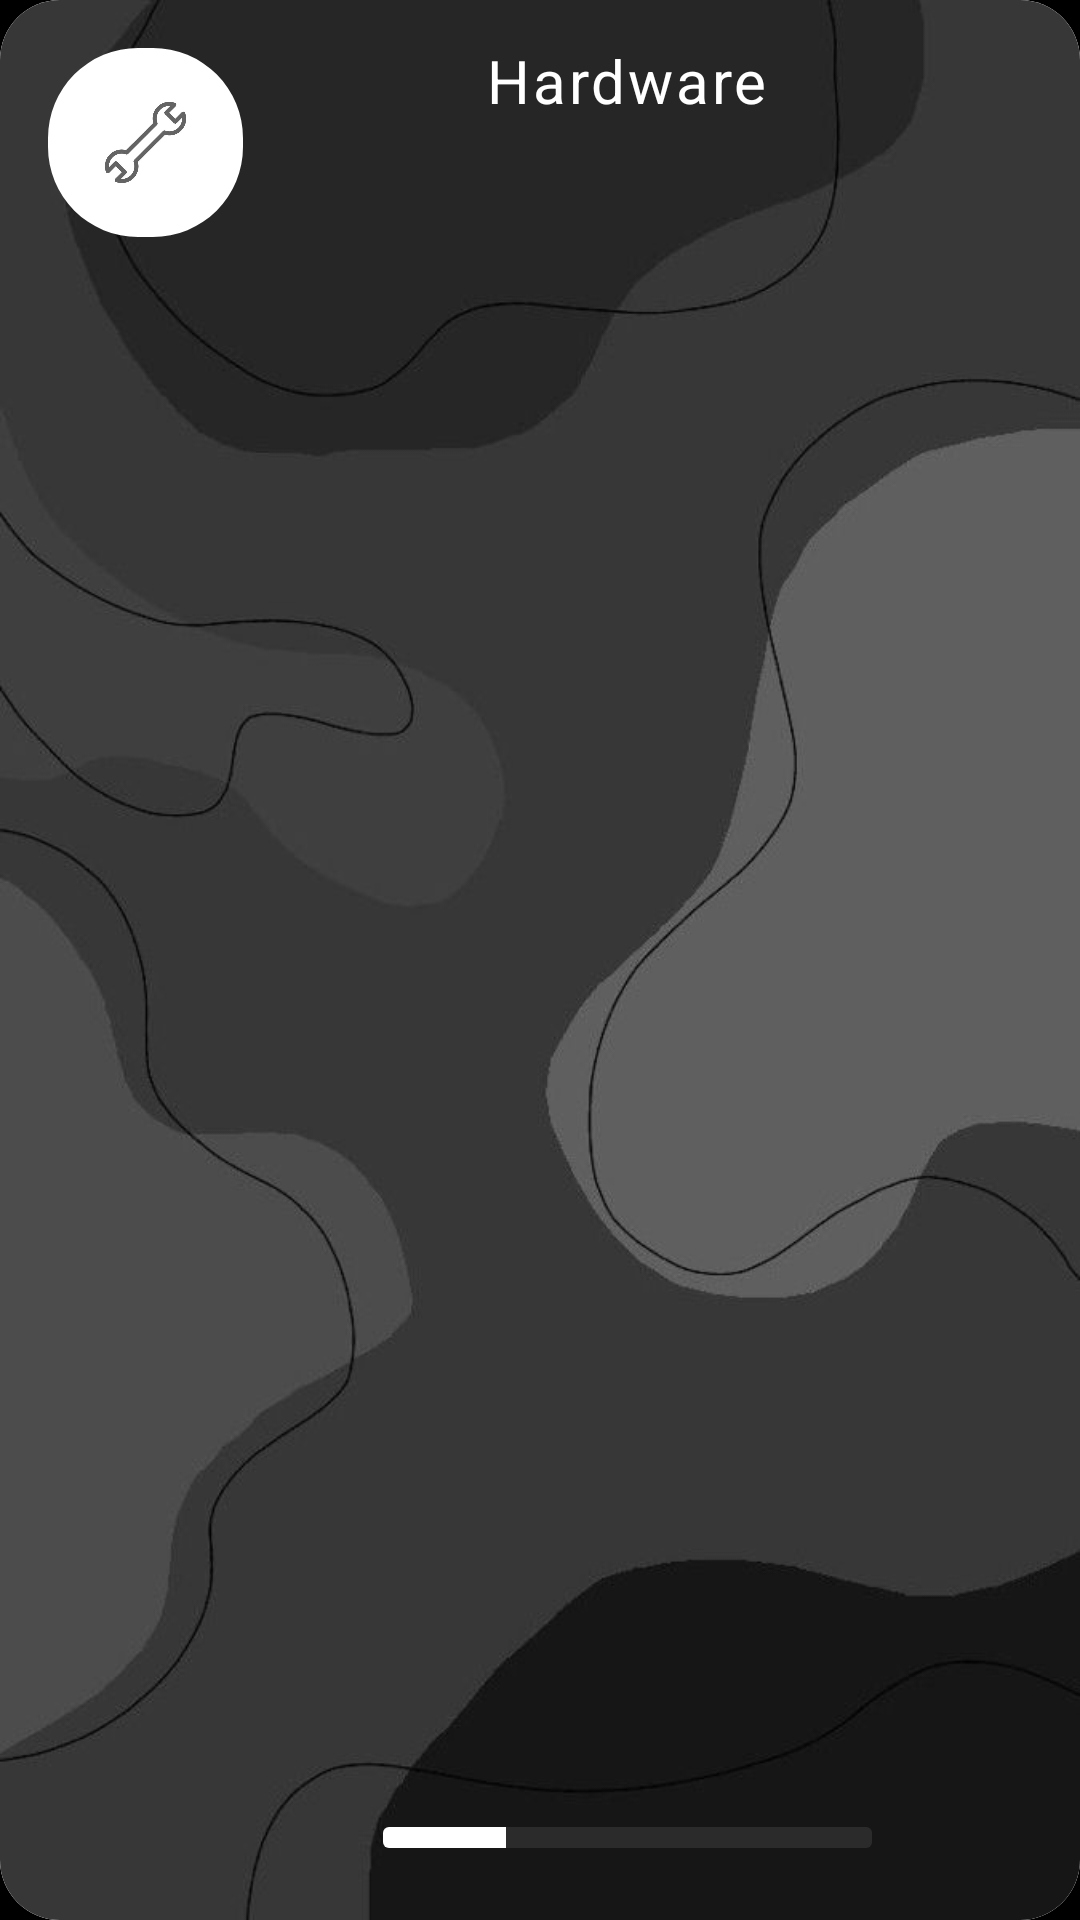

Where icons sit on this 1080 x 1920 app screen, as bbox(x1, y1, x2, y2):
hardware: bbox(48, 48, 243, 237)
